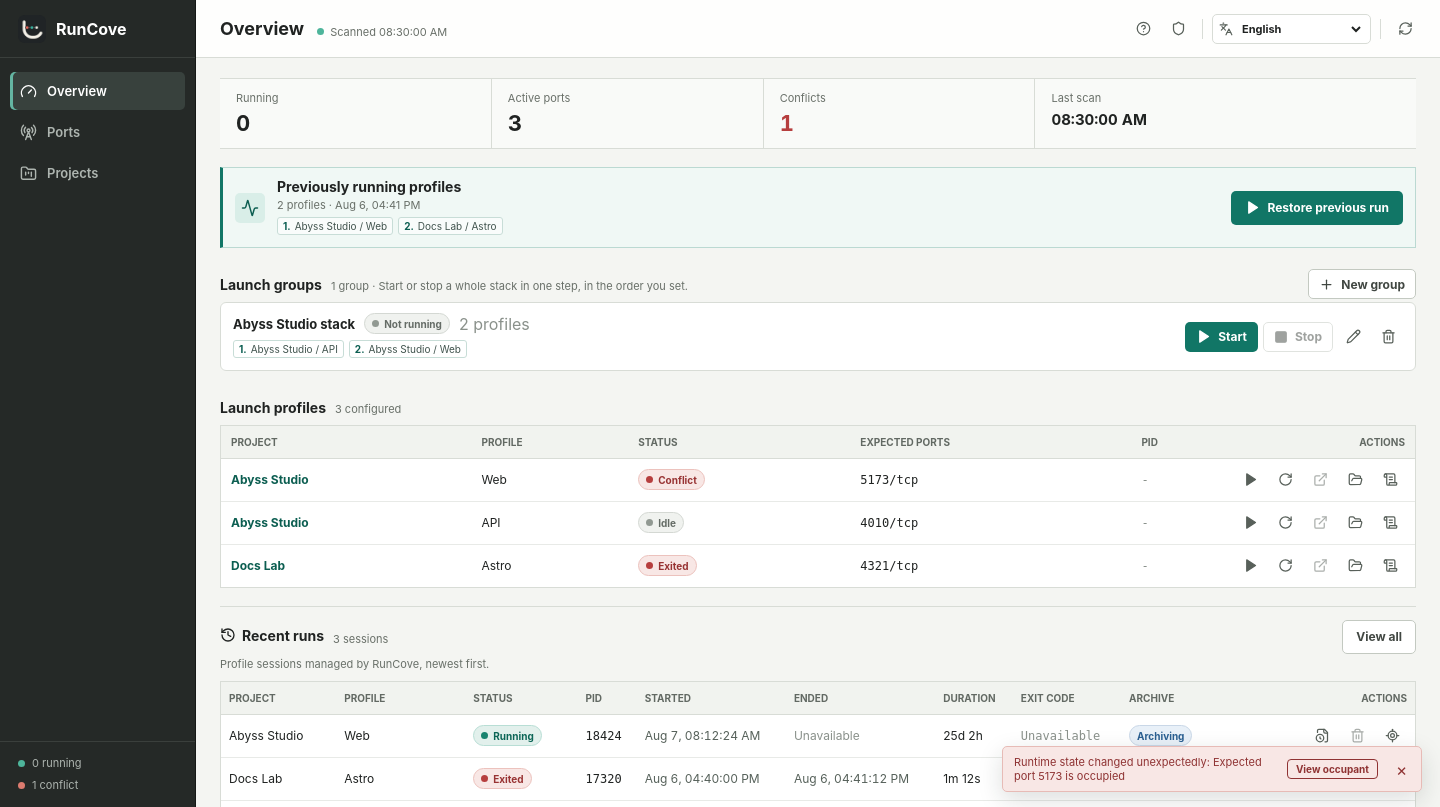
RunCove run history and conflict navigation › refreshes and focuses a structured conflicting port
Click the button "View occupant" at (1332, 769), box [1287, 759, 1378, 779]
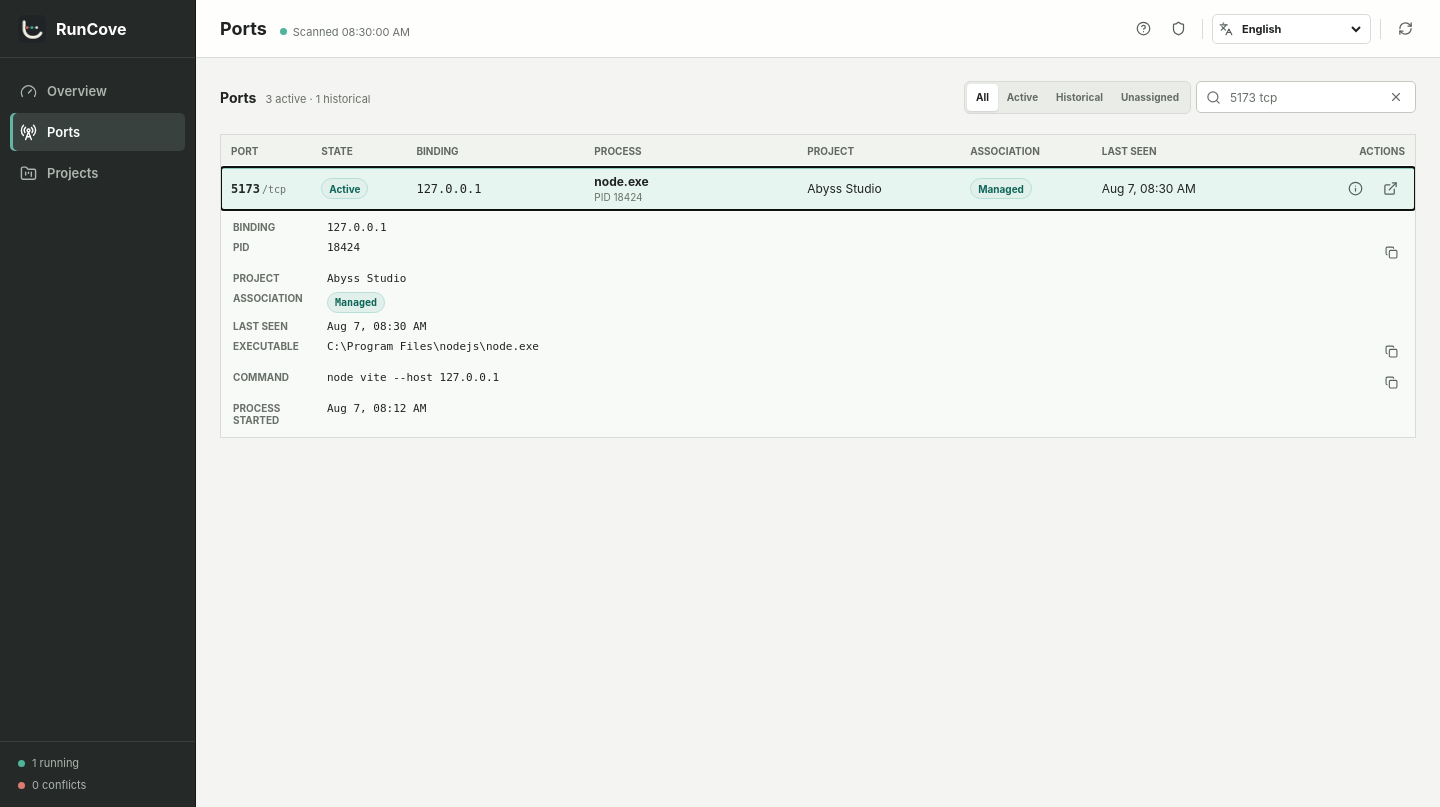
Expected: the heading "Ports" next to "Scanned 08:30:00 AM" is shown, [220, 18, 267, 39]
Expected: the field with placeholder "Search ports" holds "5173 tcp", [1228, 88, 1379, 106]
Expected: the element named "Port 5173 details" is shown, [221, 210, 1415, 436]
